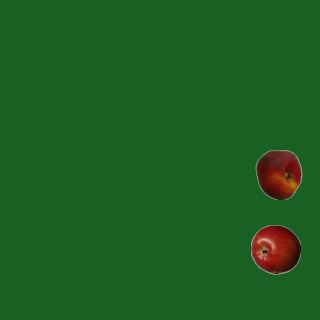Apple Braeburn: (250, 224, 300, 274)
Nectarine Flat: (253, 149, 303, 199)
